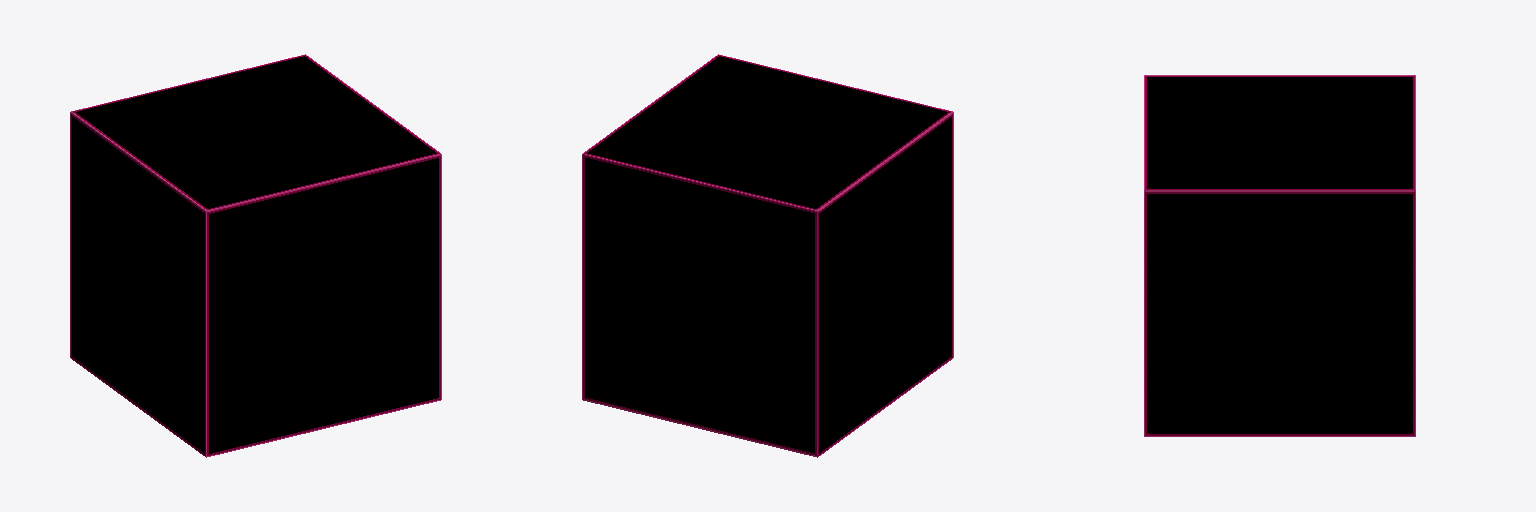
3 views of the same model, side by side, from view 1: azimuth 30°, elevation 25°; view 2: azimuth 150°, elevation 25°; view 3: azimuth 270°, elevation 25° (orthographic).
Parts seen in each view (by area): view 1: Cube; view 2: Cube; view 3: Cube.
Boxes of the visible parts, x1,y1,x2,y2 form: Cube: [70, 54, 441, 457]; Cube: [582, 54, 953, 457]; Cube: [1144, 75, 1415, 436].
Size of the model in its own units: 2 by 2 by 2.
Materials: 1 (1 with a texture image).